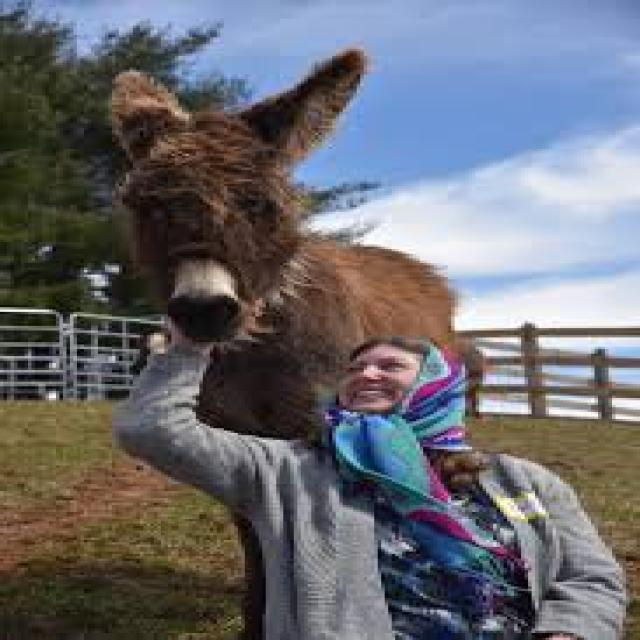donkey: (83, 100, 390, 346)
